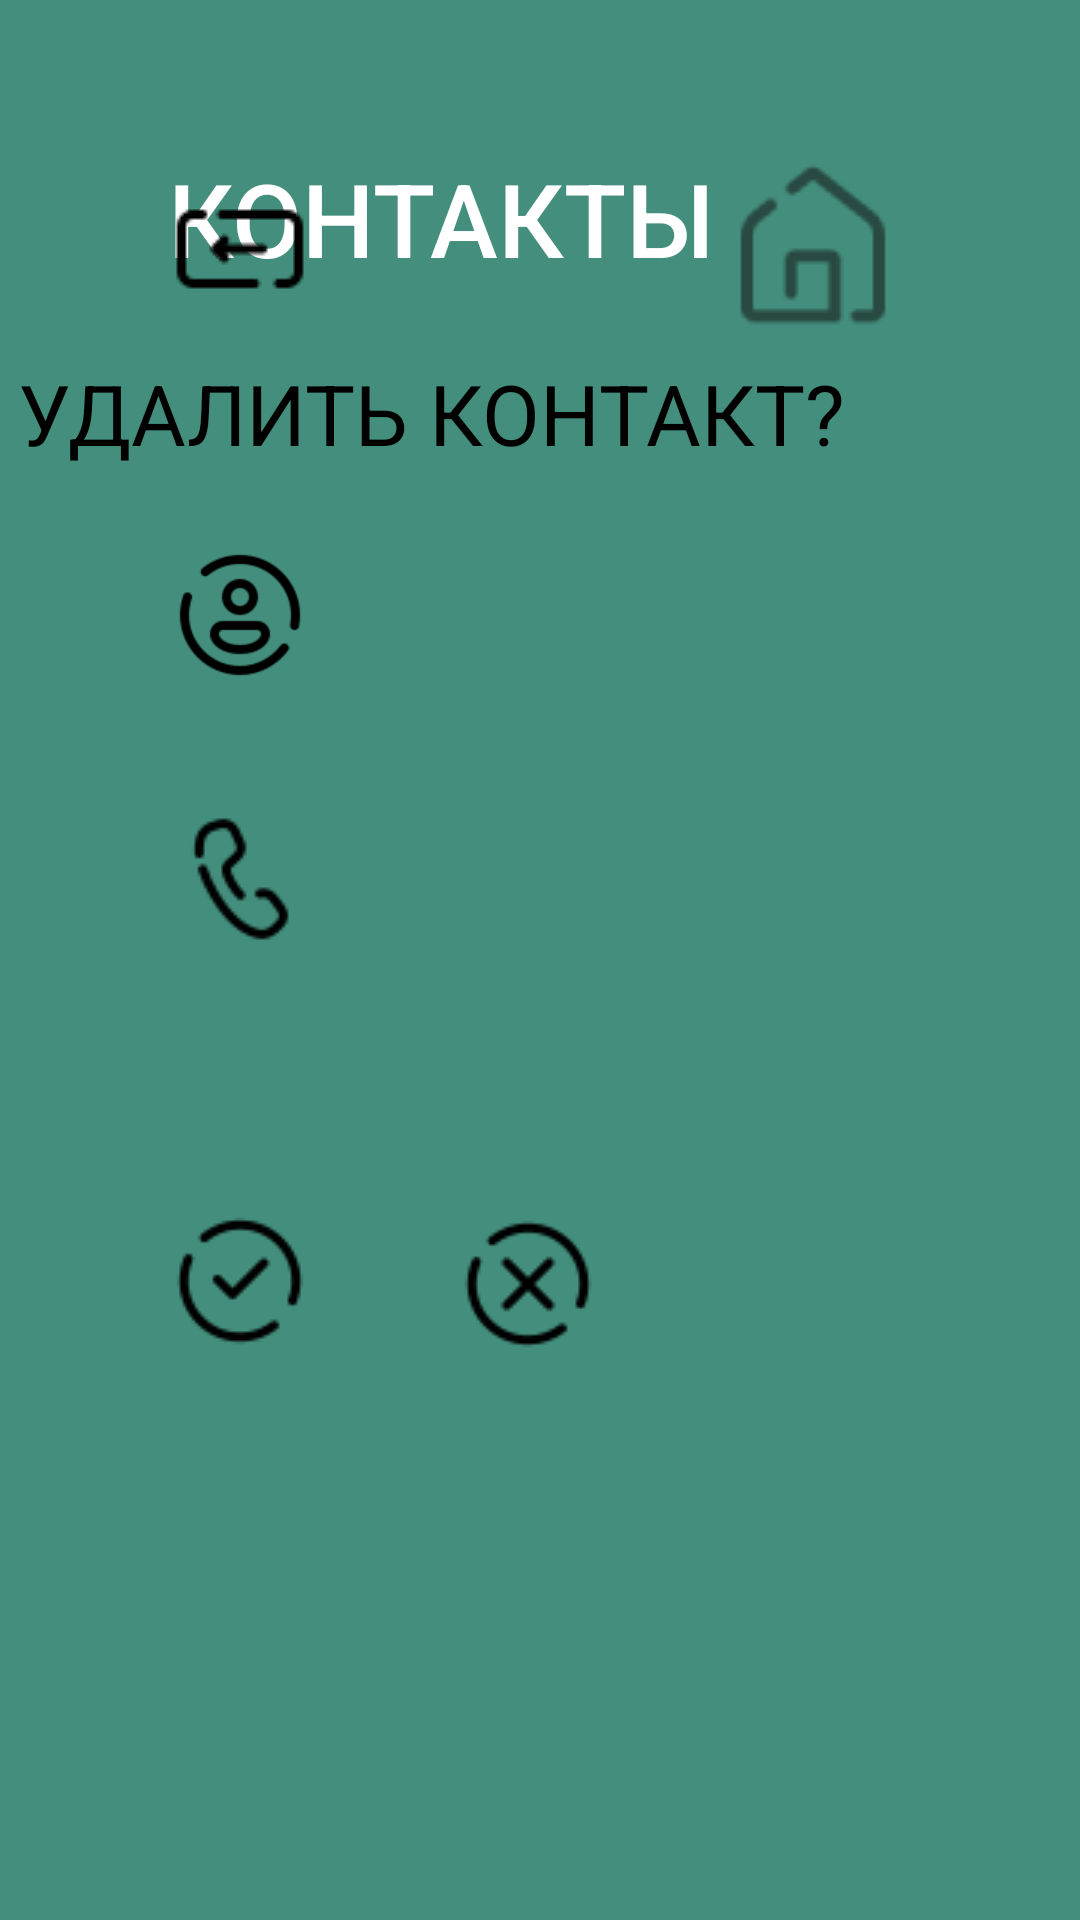

Icon bounding boxes for this 1080w x 1920h phone screenshot, format (x1, y1, x2, y2):
cancel: (466, 1222, 590, 1345)
confirm: (178, 1219, 302, 1343)
home: (741, 167, 885, 323)
male user: (180, 555, 300, 675)
phone: (194, 818, 289, 940)
